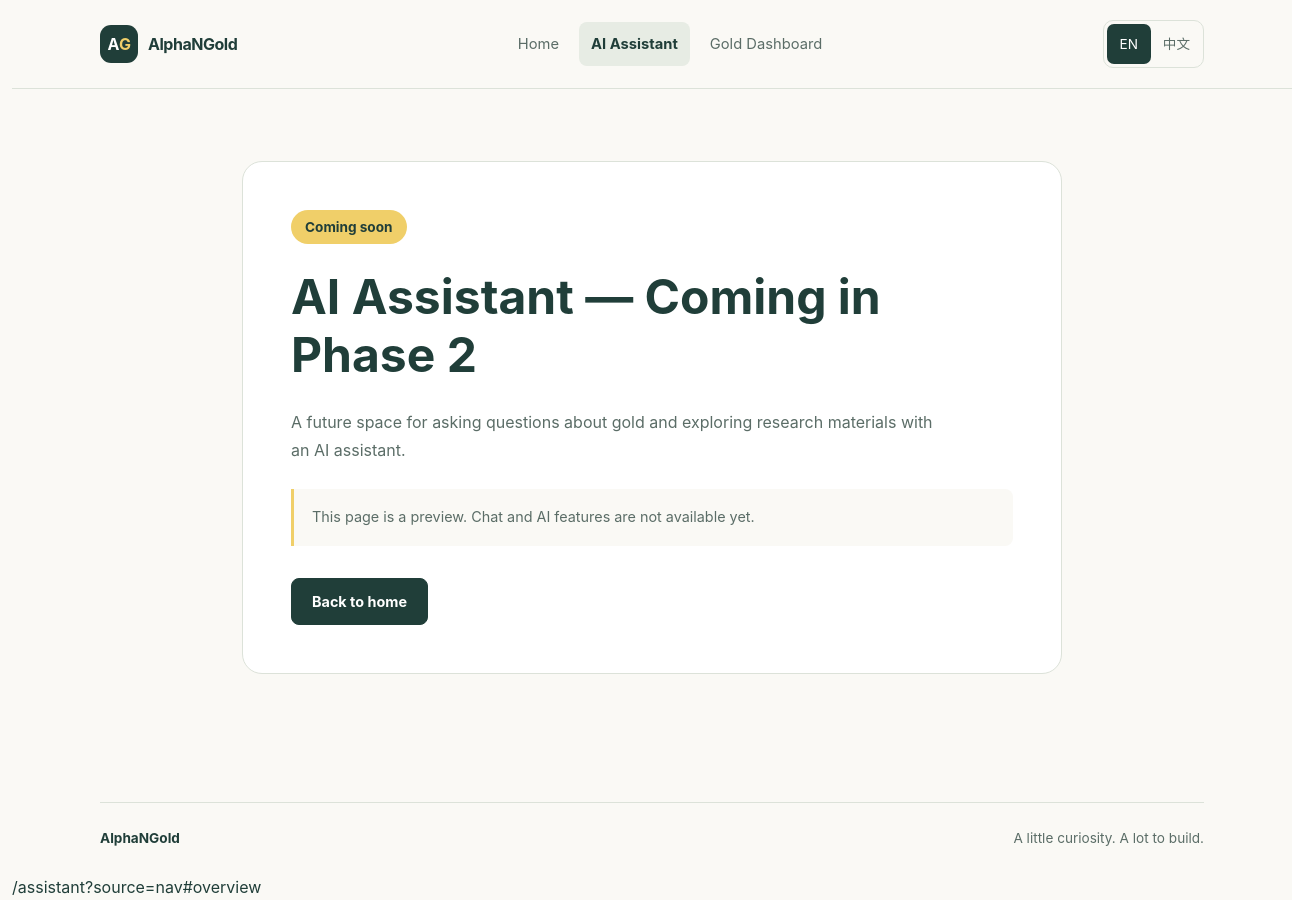
Test: App › translates /assistant?source=nav#overview and keeps its route, query, and hash
Expected: the heading "AI Assistant — Coming in Phase 2" is shown, [291,267,881,384]
Click the button with aria-label "简体中文" at (1176, 44), box [1153,24,1200,64]
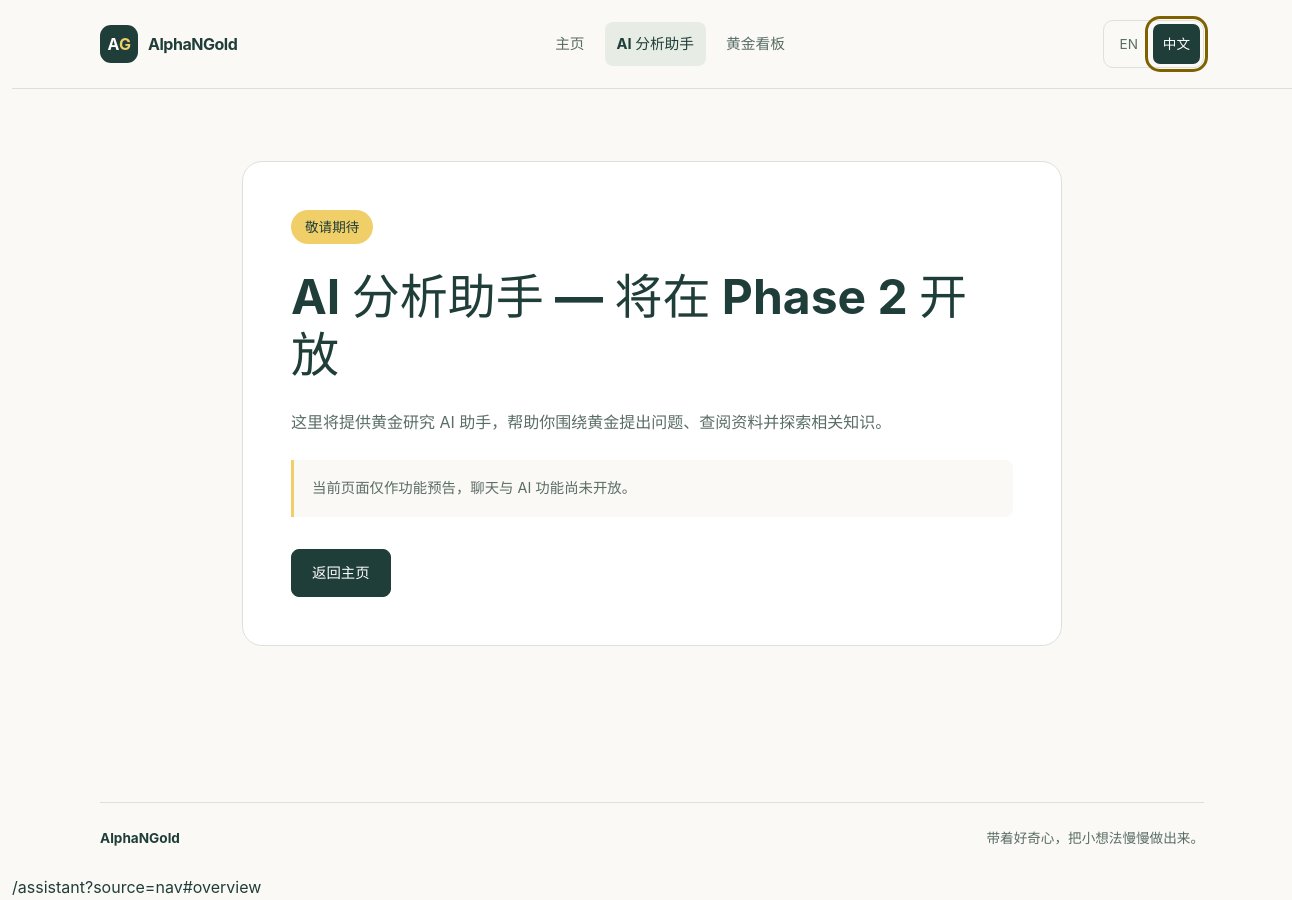
Expected: the text with test id "current-location" reads "/assistant?source=nav#overview", [12,877,261,897]
Expected: the heading "AI 分析助手 — 将在 Phase 2 开放" is shown, [291,268,1013,384]
